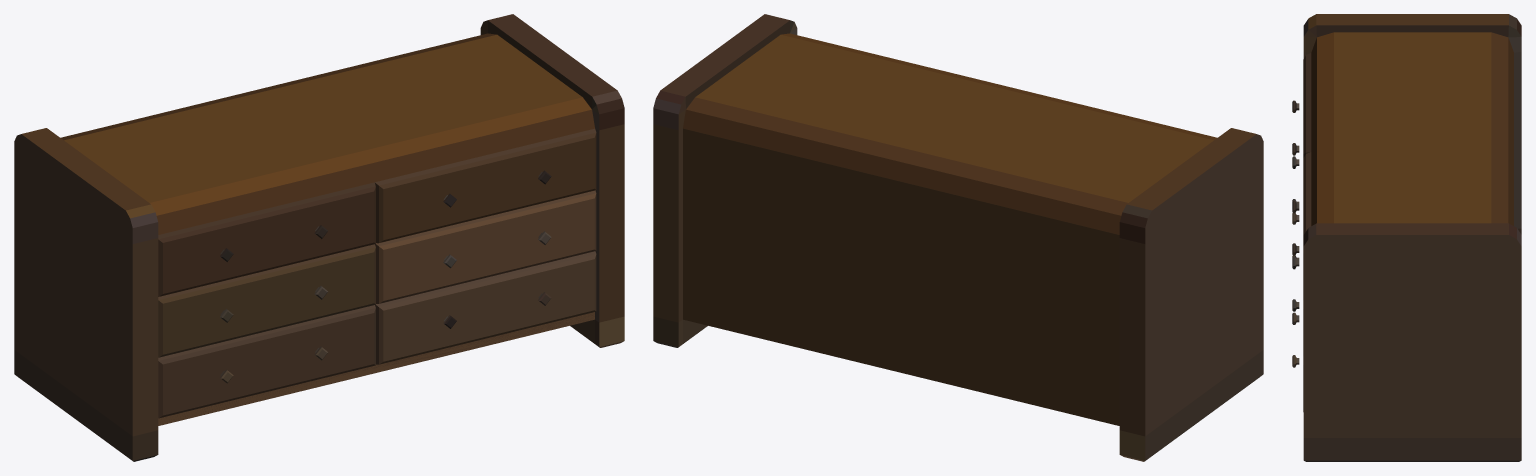
File: Furniture_DresserB.fbx
3 renders of one model, left to right at view 1: azimuth 30°, elevation 25°; view 2: azimuth 150°, elevation 25°; view 3: azimuth 270°, elevation 25°, orthographic. The views are drawn at different scales.
Parts seen in each view (by area): view 1: Furniture_DresserB; view 2: Furniture_DresserB; view 3: Furniture_DresserB.
Boxes of the visible parts, bbox=[...] form: Furniture_DresserB: bbox=[14, 14, 624, 461]; Furniture_DresserB: bbox=[653, 14, 1263, 461]; Furniture_DresserB: bbox=[1292, 14, 1521, 461].
Bounding box in the file's own units: 189 × 91.07 × 83.01.
